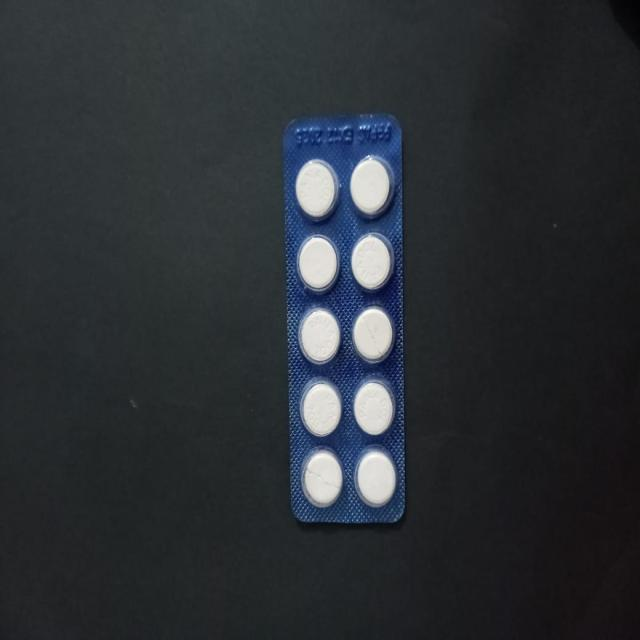defect: (299, 446, 346, 511), (350, 308, 396, 367)
